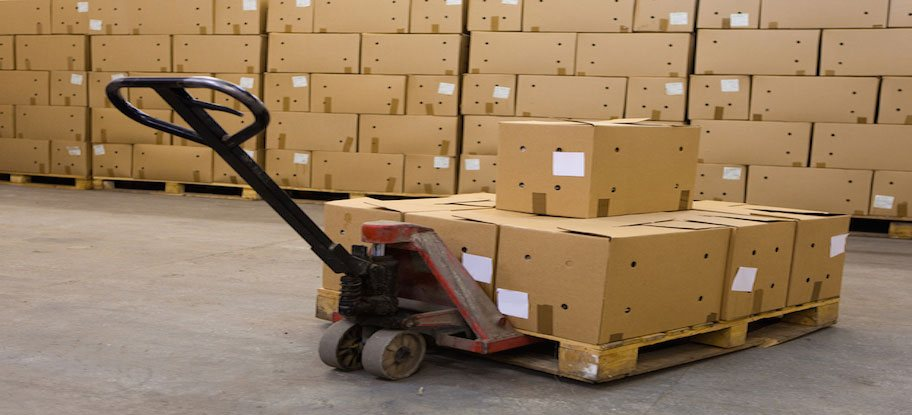pallet: (288, 254, 870, 391), (92, 157, 261, 215), (260, 166, 442, 219), (2, 136, 95, 204)
